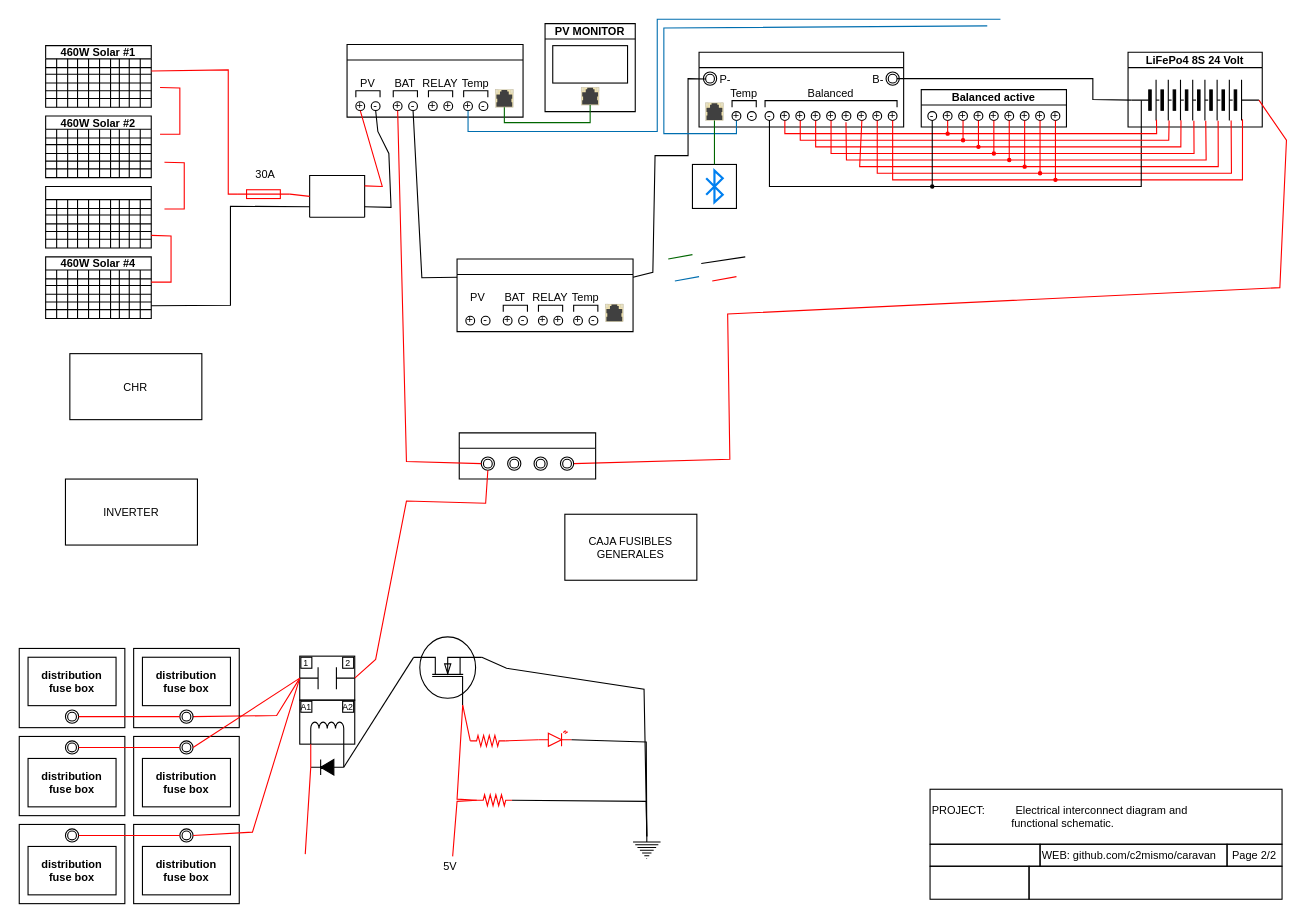
This 1307x923 diagram has some shape labels left out. The box of each missing label's shape, as (x1, y1, x2, y2) in pixels:
460W Solar #3: (45, 185, 151, 248)
BMS 250A: (698, 51, 904, 127)
Cable Entry Plate: (309, 174, 365, 217)
Date: 30-01-2022 Place: Málaga: (929, 865, 1029, 899)
Developer: c2mismo: (929, 843, 1040, 866)
License: GNU GPL3 https://www.gnu.org/licenses/gpl.html: (1028, 865, 1282, 899)
Power Distribution Block: (458, 432, 596, 479)
PV MPPT CHARGER: (346, 43, 523, 117)
SHUNT 300A: (456, 258, 633, 332)
